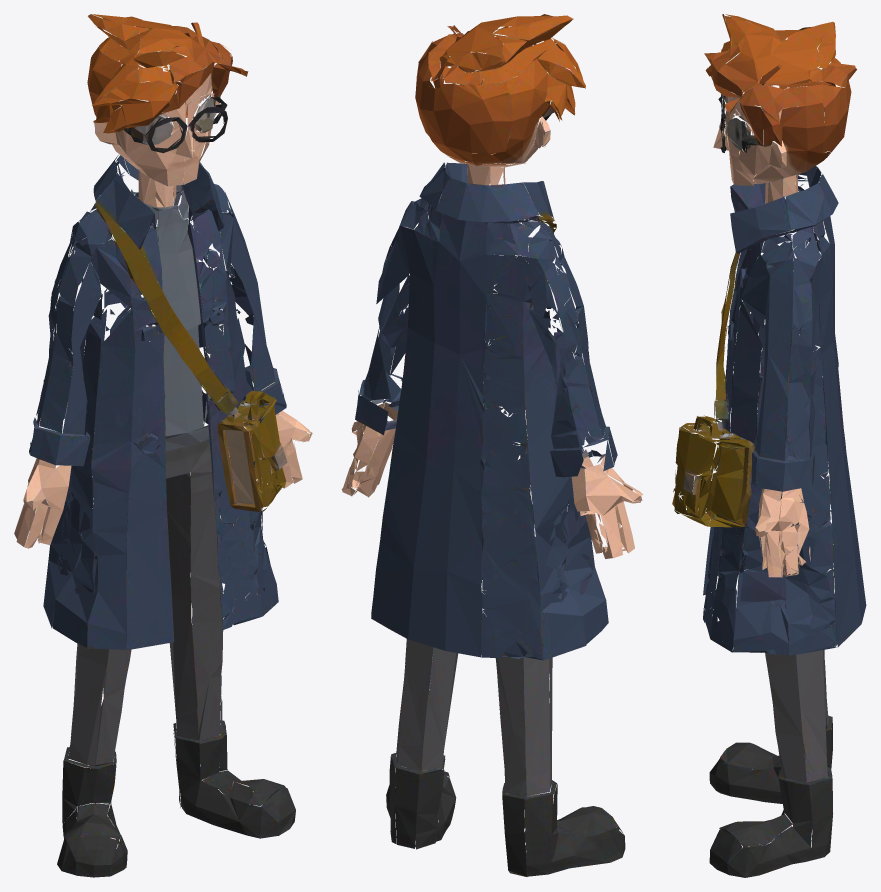
File: equipier.glb
3 views of the same model, side by side, from view 1: azimuth 30°, elevation 25°; view 2: azimuth 150°, elevation 25°; view 3: azimuth 270°, elevation 25° (orthographic). The views are drawn at different scales.
Parts seen in each view (by area): view 1: equipier; view 2: equipier; view 3: equipier.
Boxes of the visible parts, left/top/right/bottom form: equipier: left=14, top=14, right=312, bottom=877; equipier: left=341, top=14, right=643, bottom=876; equipier: left=672, top=14, right=866, bottom=877.
Bounding box in the file's own units: 0.3693 × 1 × 0.224.
1 material, 1 textured.
